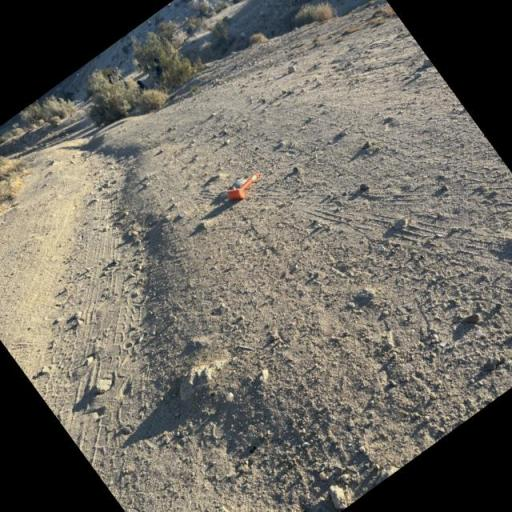mallet: (220, 164, 267, 208)
